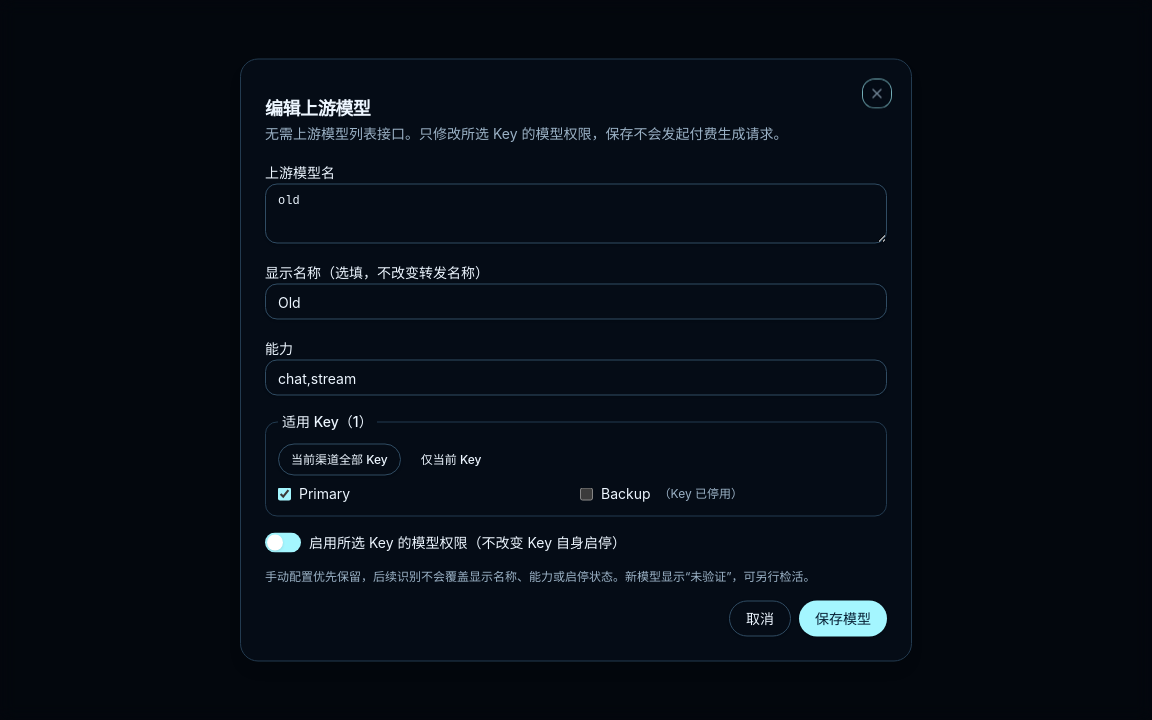
Test: manual upstream models › disables shared route rename until all old-model keys are selected
Replace the text in the text box labelled "上游模型名" with "new" at (576, 214), box left=265, top=184, right=887, bottom=244
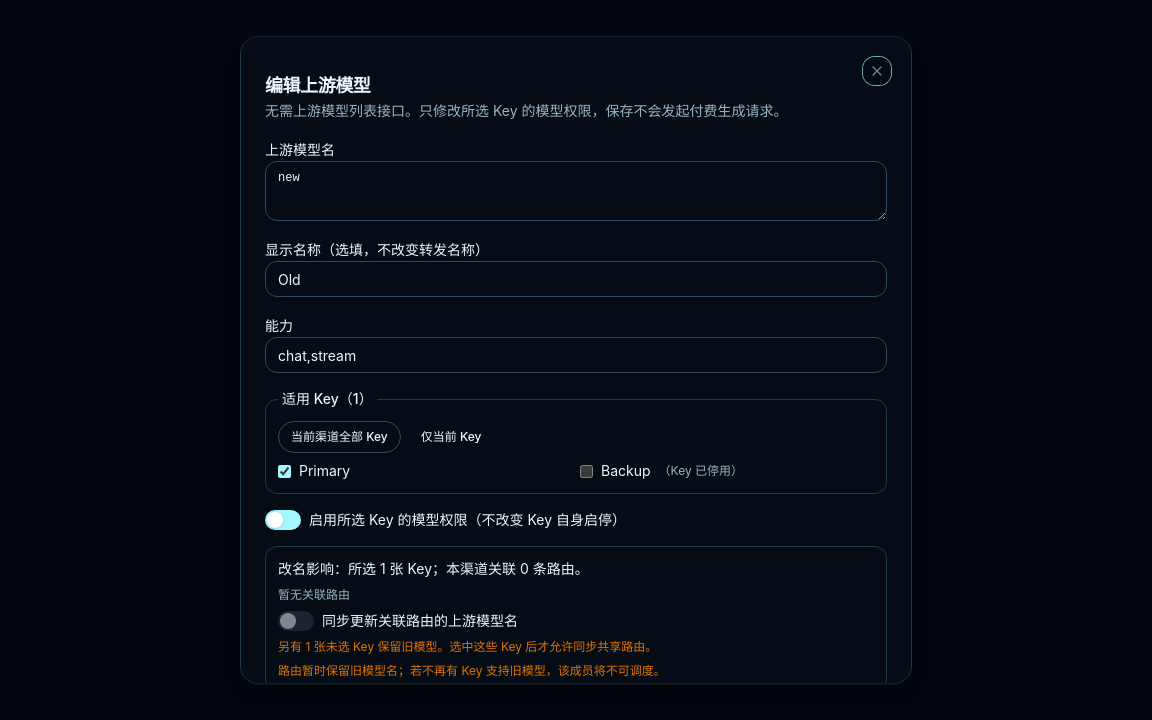
Expected: the switch named "同步更新关联路由的上游模型名" next to "同步更新关联路由的上游模型名" is disabled, left=278, top=611, right=314, bottom=631
Click the button "当前渠道全部 Key" at (339, 437), box left=278, top=421, right=401, bottom=453
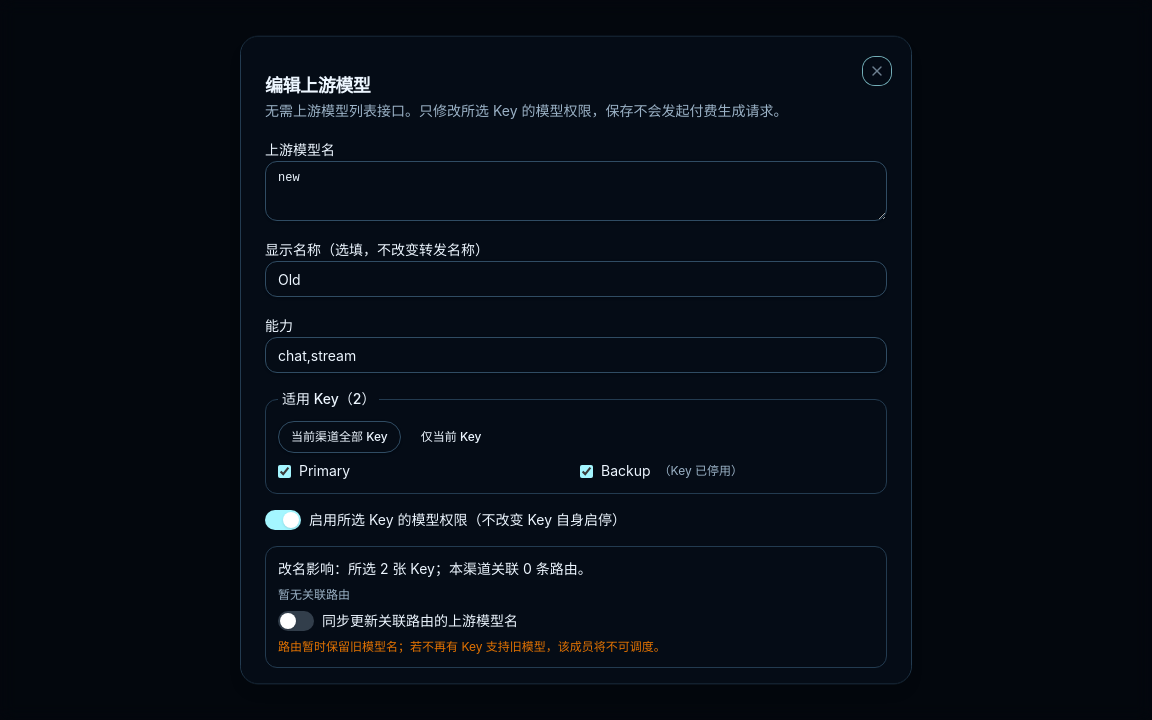
Expected: the switch named "同步更新关联路由的上游模型名" next to "同步更新关联路由的上游模型名" is enabled, left=278, top=611, right=314, bottom=631
